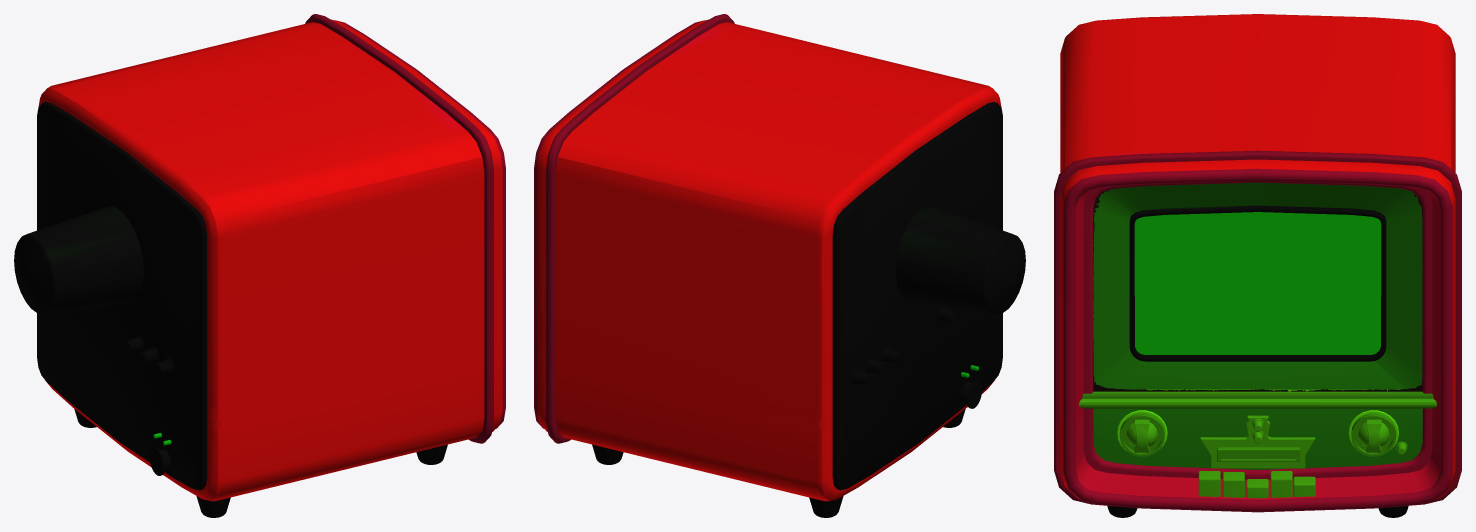
The model's file is retro_tv.fbx.
3 renders of one model, left to right at view 1: azimuth 30°, elevation 25°; view 2: azimuth 150°, elevation 25°; view 3: azimuth 270°, elevation 25°, orthographic. The views are drawn at different scales.
Parts seen in each view (by area): view 1: Circle.033; view 2: Circle.033; view 3: Circle.033.
Part boxes in pixels (x1,y1,x2,y2): Circle.033: (14, 14, 505, 517); Circle.033: (534, 14, 1025, 517); Circle.033: (1054, 14, 1461, 517).
Size of the model in its own units: 404 by 335 by 328.
